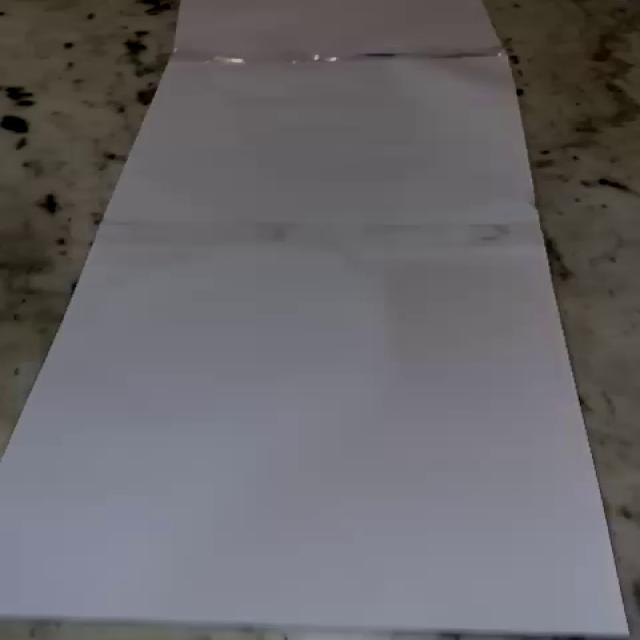road: (3, 0, 628, 636)
